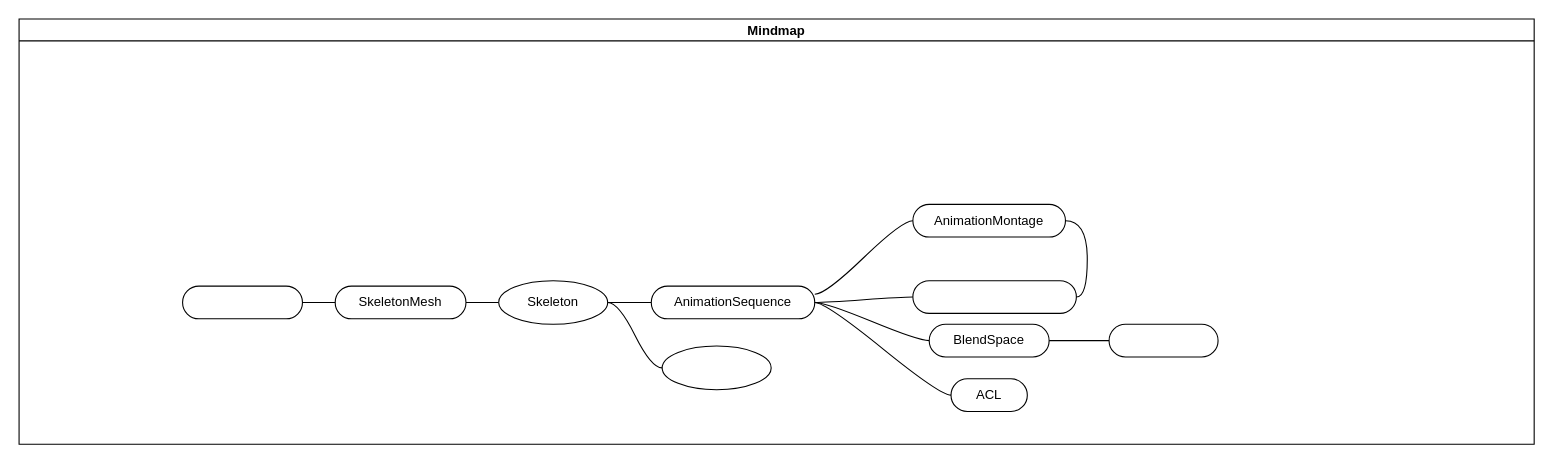
Image size: 1553x463. Some labels were removed from this diagram. Here are the shapes that lost their labels. From the top down, the centre of each, then its label:
At (241,302): "PhysicsAsset".
At (994,296): "AnimationCompostie".
At (1163,340): "AimOffset".
At (716,367): "AnimBlueprint".
